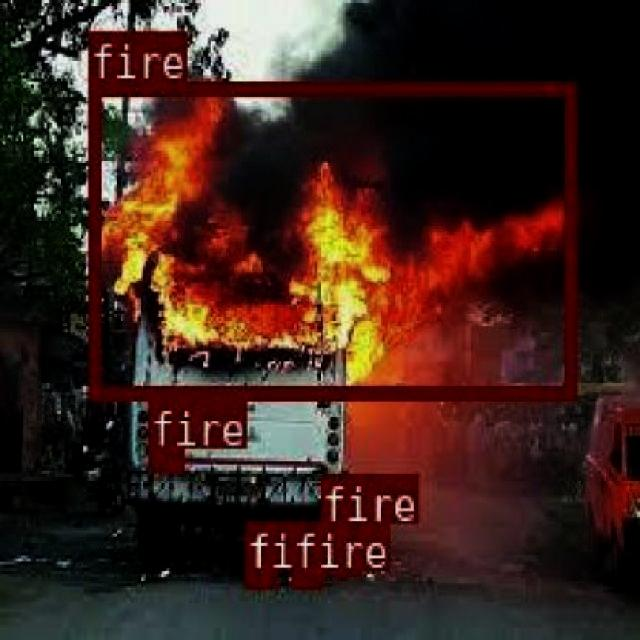fire: (88, 79, 574, 398), (319, 520, 358, 572), (148, 448, 182, 470), (244, 568, 276, 586), (288, 568, 318, 586)
